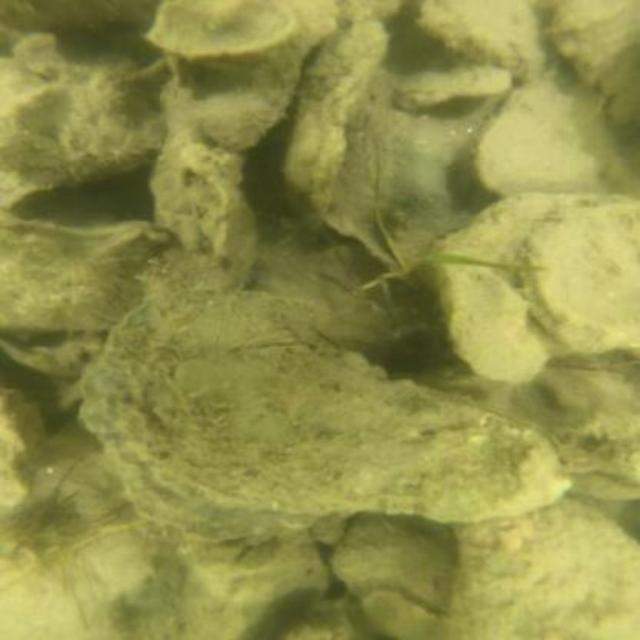Oyster-Closed: (131, 336, 575, 523), (76, 295, 320, 548), (448, 504, 639, 640), (187, 0, 338, 152), (290, 21, 388, 232), (477, 69, 636, 193), (0, 222, 178, 332), (532, 200, 635, 350), (444, 265, 547, 385), (547, 0, 638, 127), (336, 519, 457, 612), (419, 0, 545, 82)
